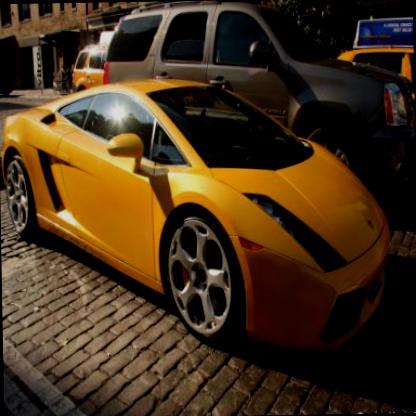car: (0, 75, 394, 360), (100, 0, 415, 204), (335, 40, 414, 152), (67, 42, 108, 95), (0, 68, 17, 101)
